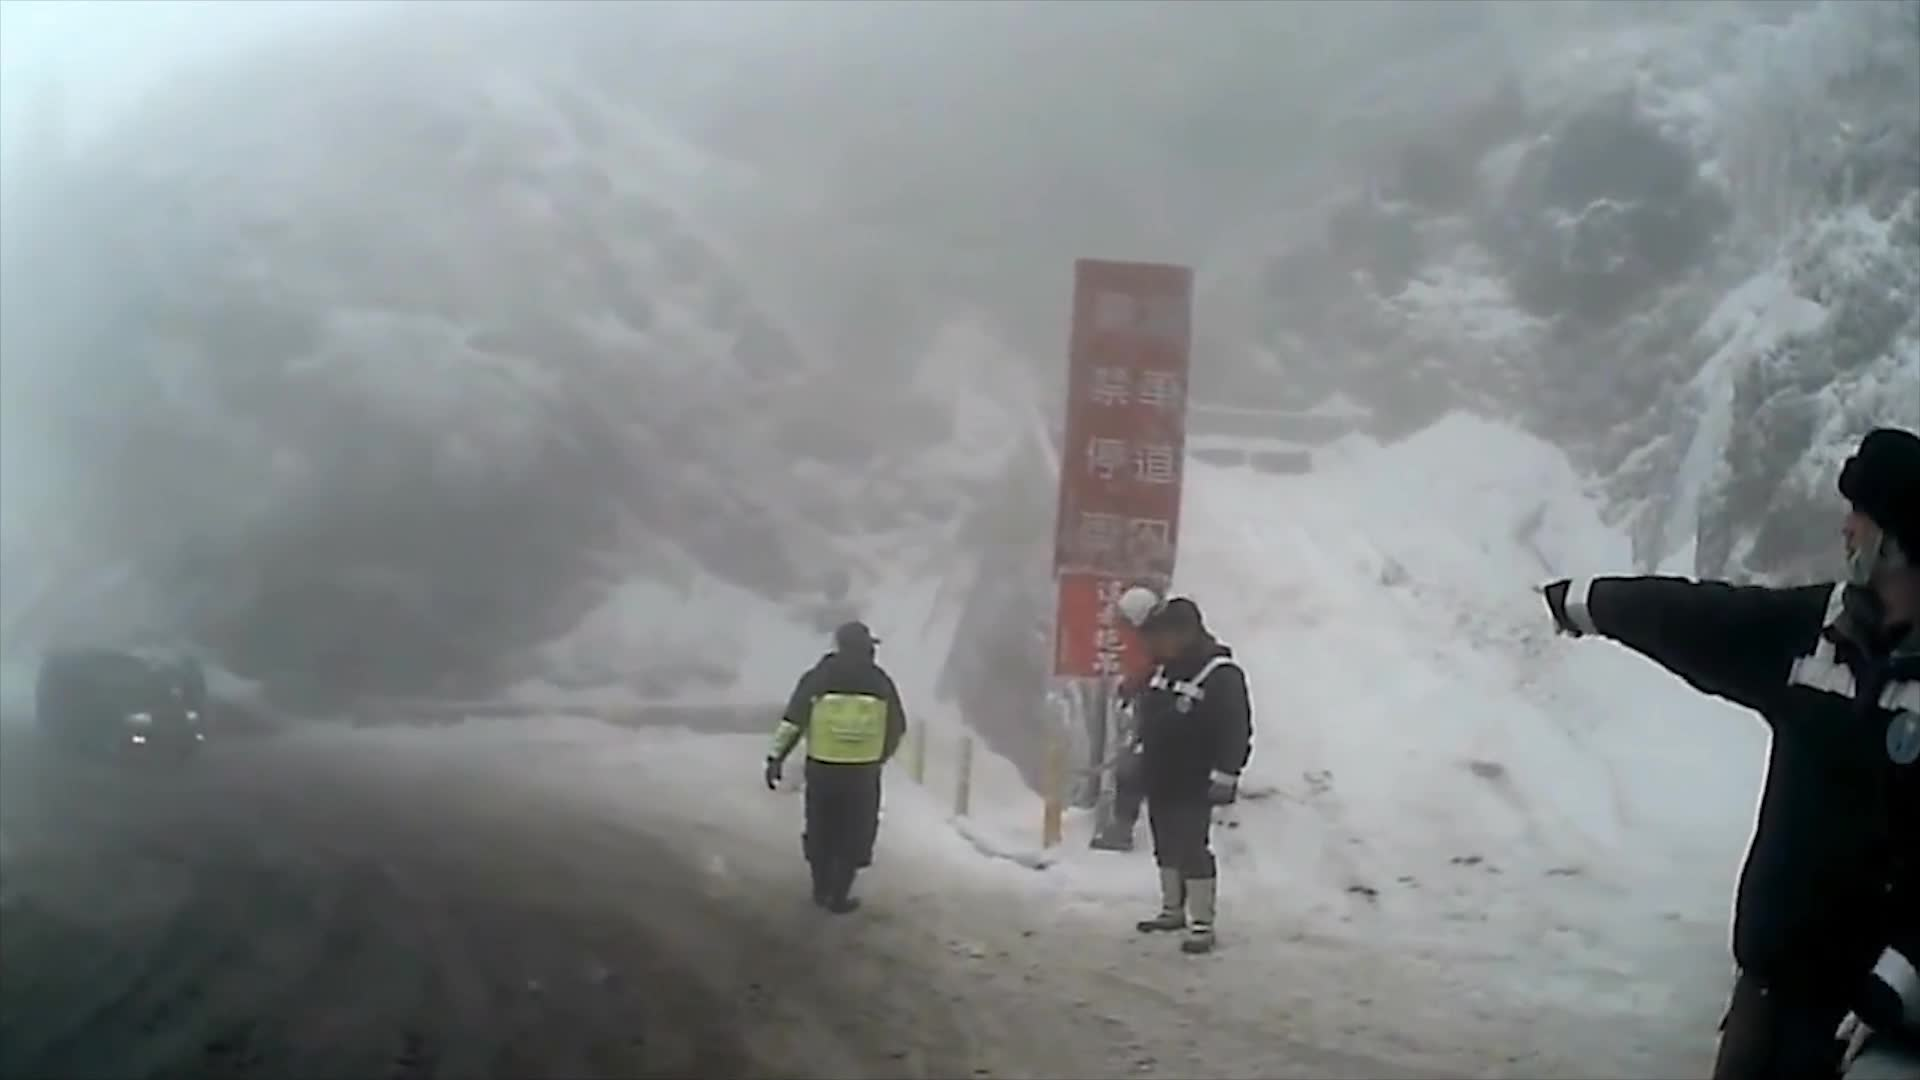pedestrian: (1520, 426, 1920, 1080), (1131, 603, 1255, 957), (761, 632, 906, 917)
vehicle: (34, 644, 204, 767)
